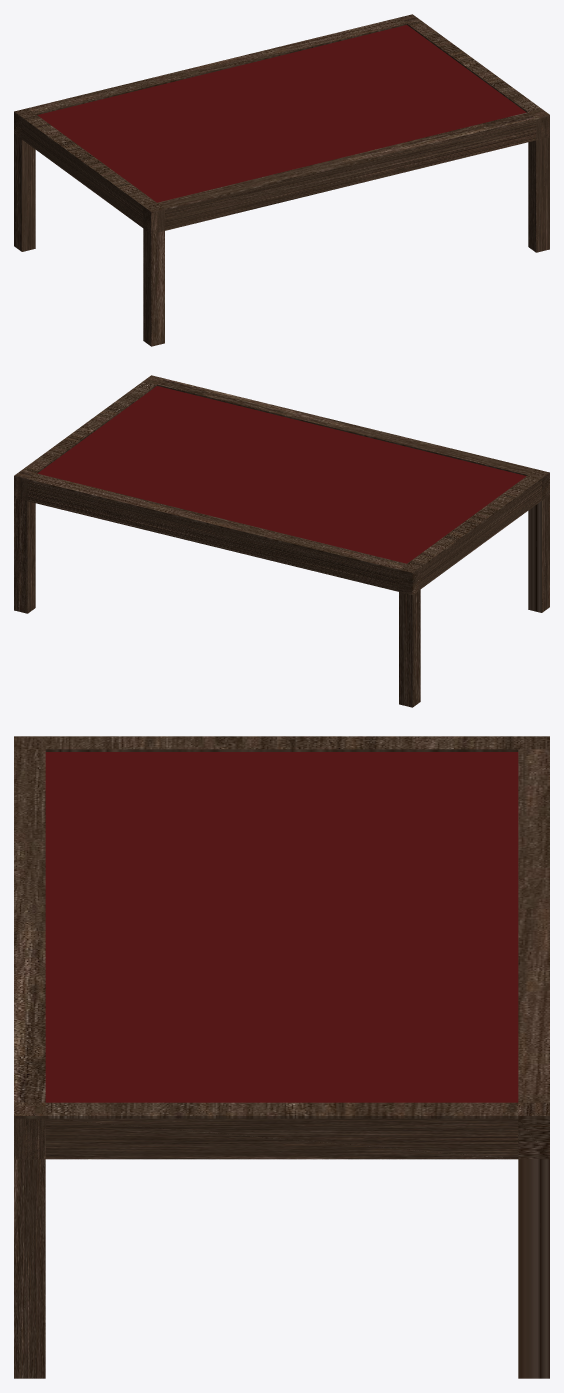
Rendered from Table1.fbx.
The picture shows the model from 3 angles, top to bottom: view 1: azimuth 30°, elevation 25°; view 2: azimuth 150°, elevation 25°; view 3: azimuth 270°, elevation 25°; orthographic projection. The views are drawn at different scales.
Visible parts, largest first — view 1: Cube.003; view 2: Cube.003; view 3: Cube.003.
Boxes of the visible parts, x1,y1,x2,y2 form: Cube.003: (14,14,549,346); Cube.003: (14,375,549,707); Cube.003: (14,736,549,1378).
Size of the model in its own units: 1022 by 330 by 610.
